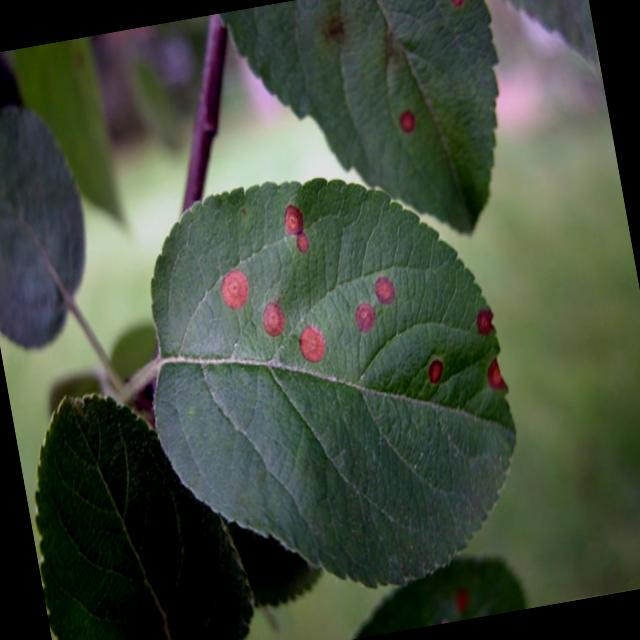leaf_spot: (151, 178, 514, 585)
